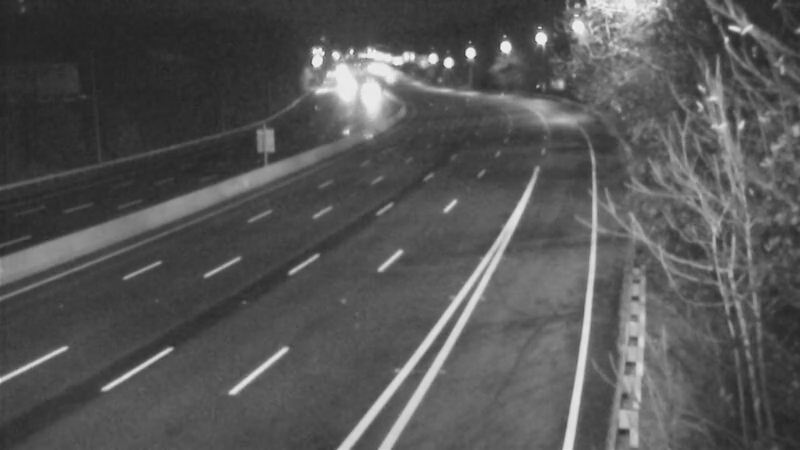vehicle: (345, 68, 395, 118)
